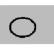no answer: (7, 16, 38, 39)
